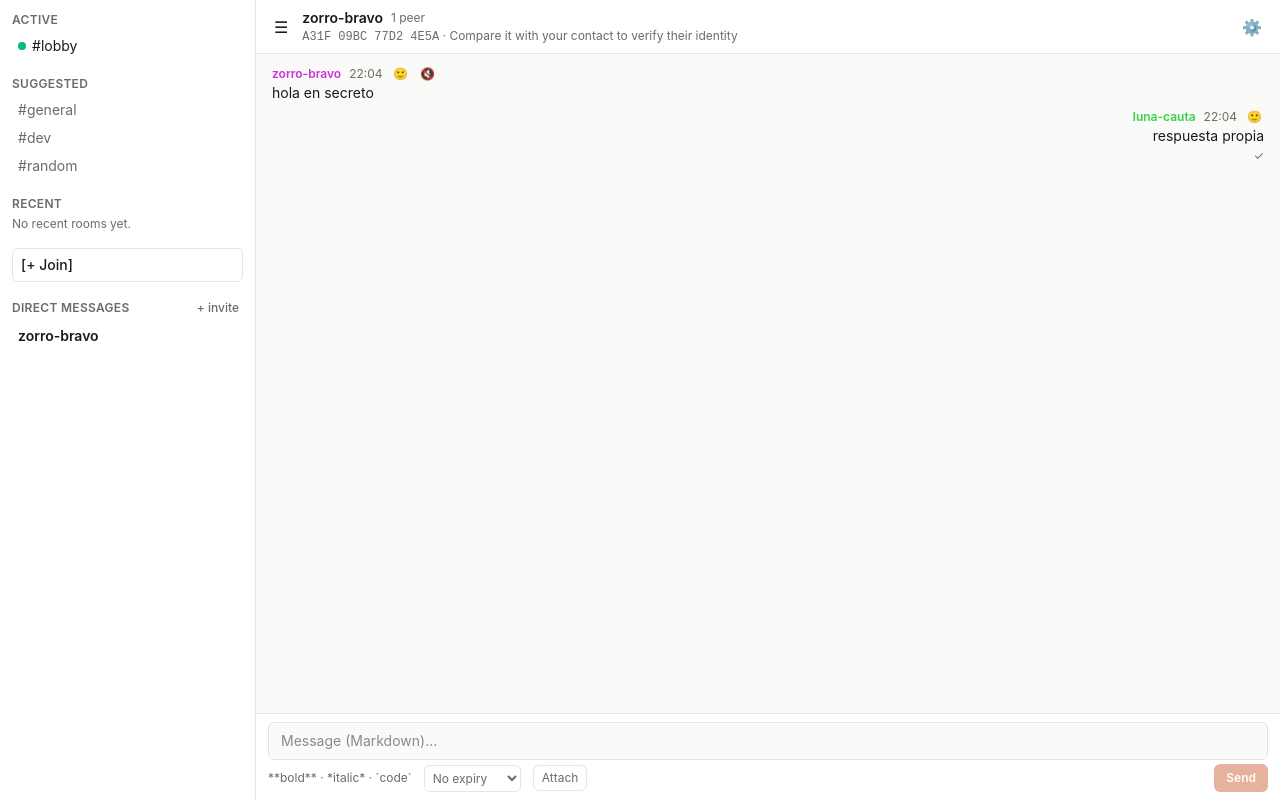
Test: DM view (RF-04) › reuses the room feed and composer: messages render with receipts
Expected: the element named "Direct messages with zorro-bravo" shows "hola en secreto", [272,84,374,101]
Expected: the element named "Direct messages with zorro-bravo" shows "respuesta propia", [1153,127,1264,144]
# The composer enables sending as soon as there is text.
Step 1. Type "texto" into the dropdown named "Write a message" → (768, 741), box [268,722,1268,760]
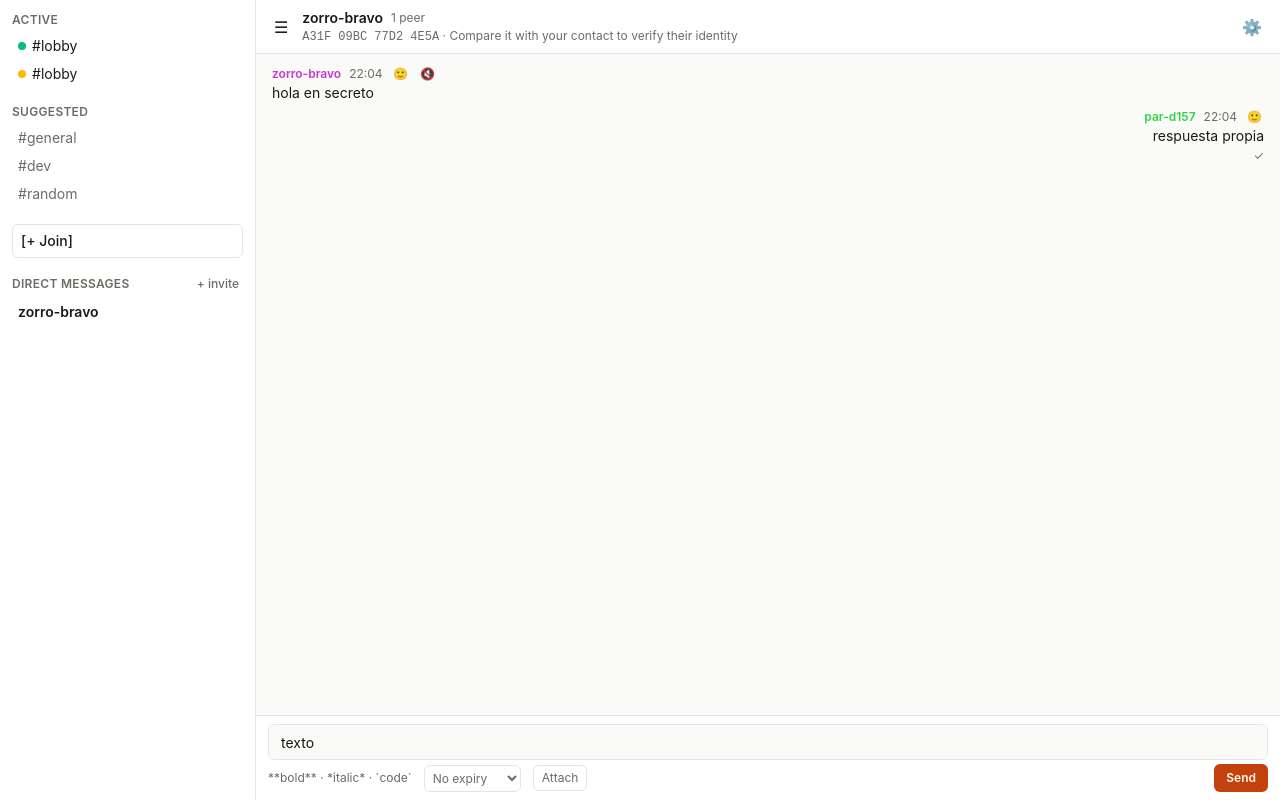
Now the button "Send" is enabled, box [1214,764,1268,792]
